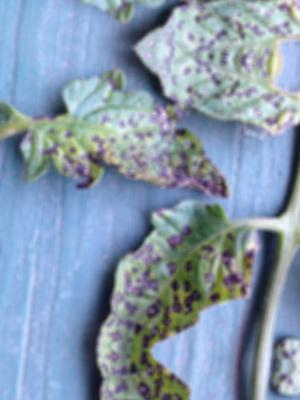Tomato Septoria leaf spot: (0, 62, 253, 210), (91, 196, 262, 362), (106, 46, 300, 143)
